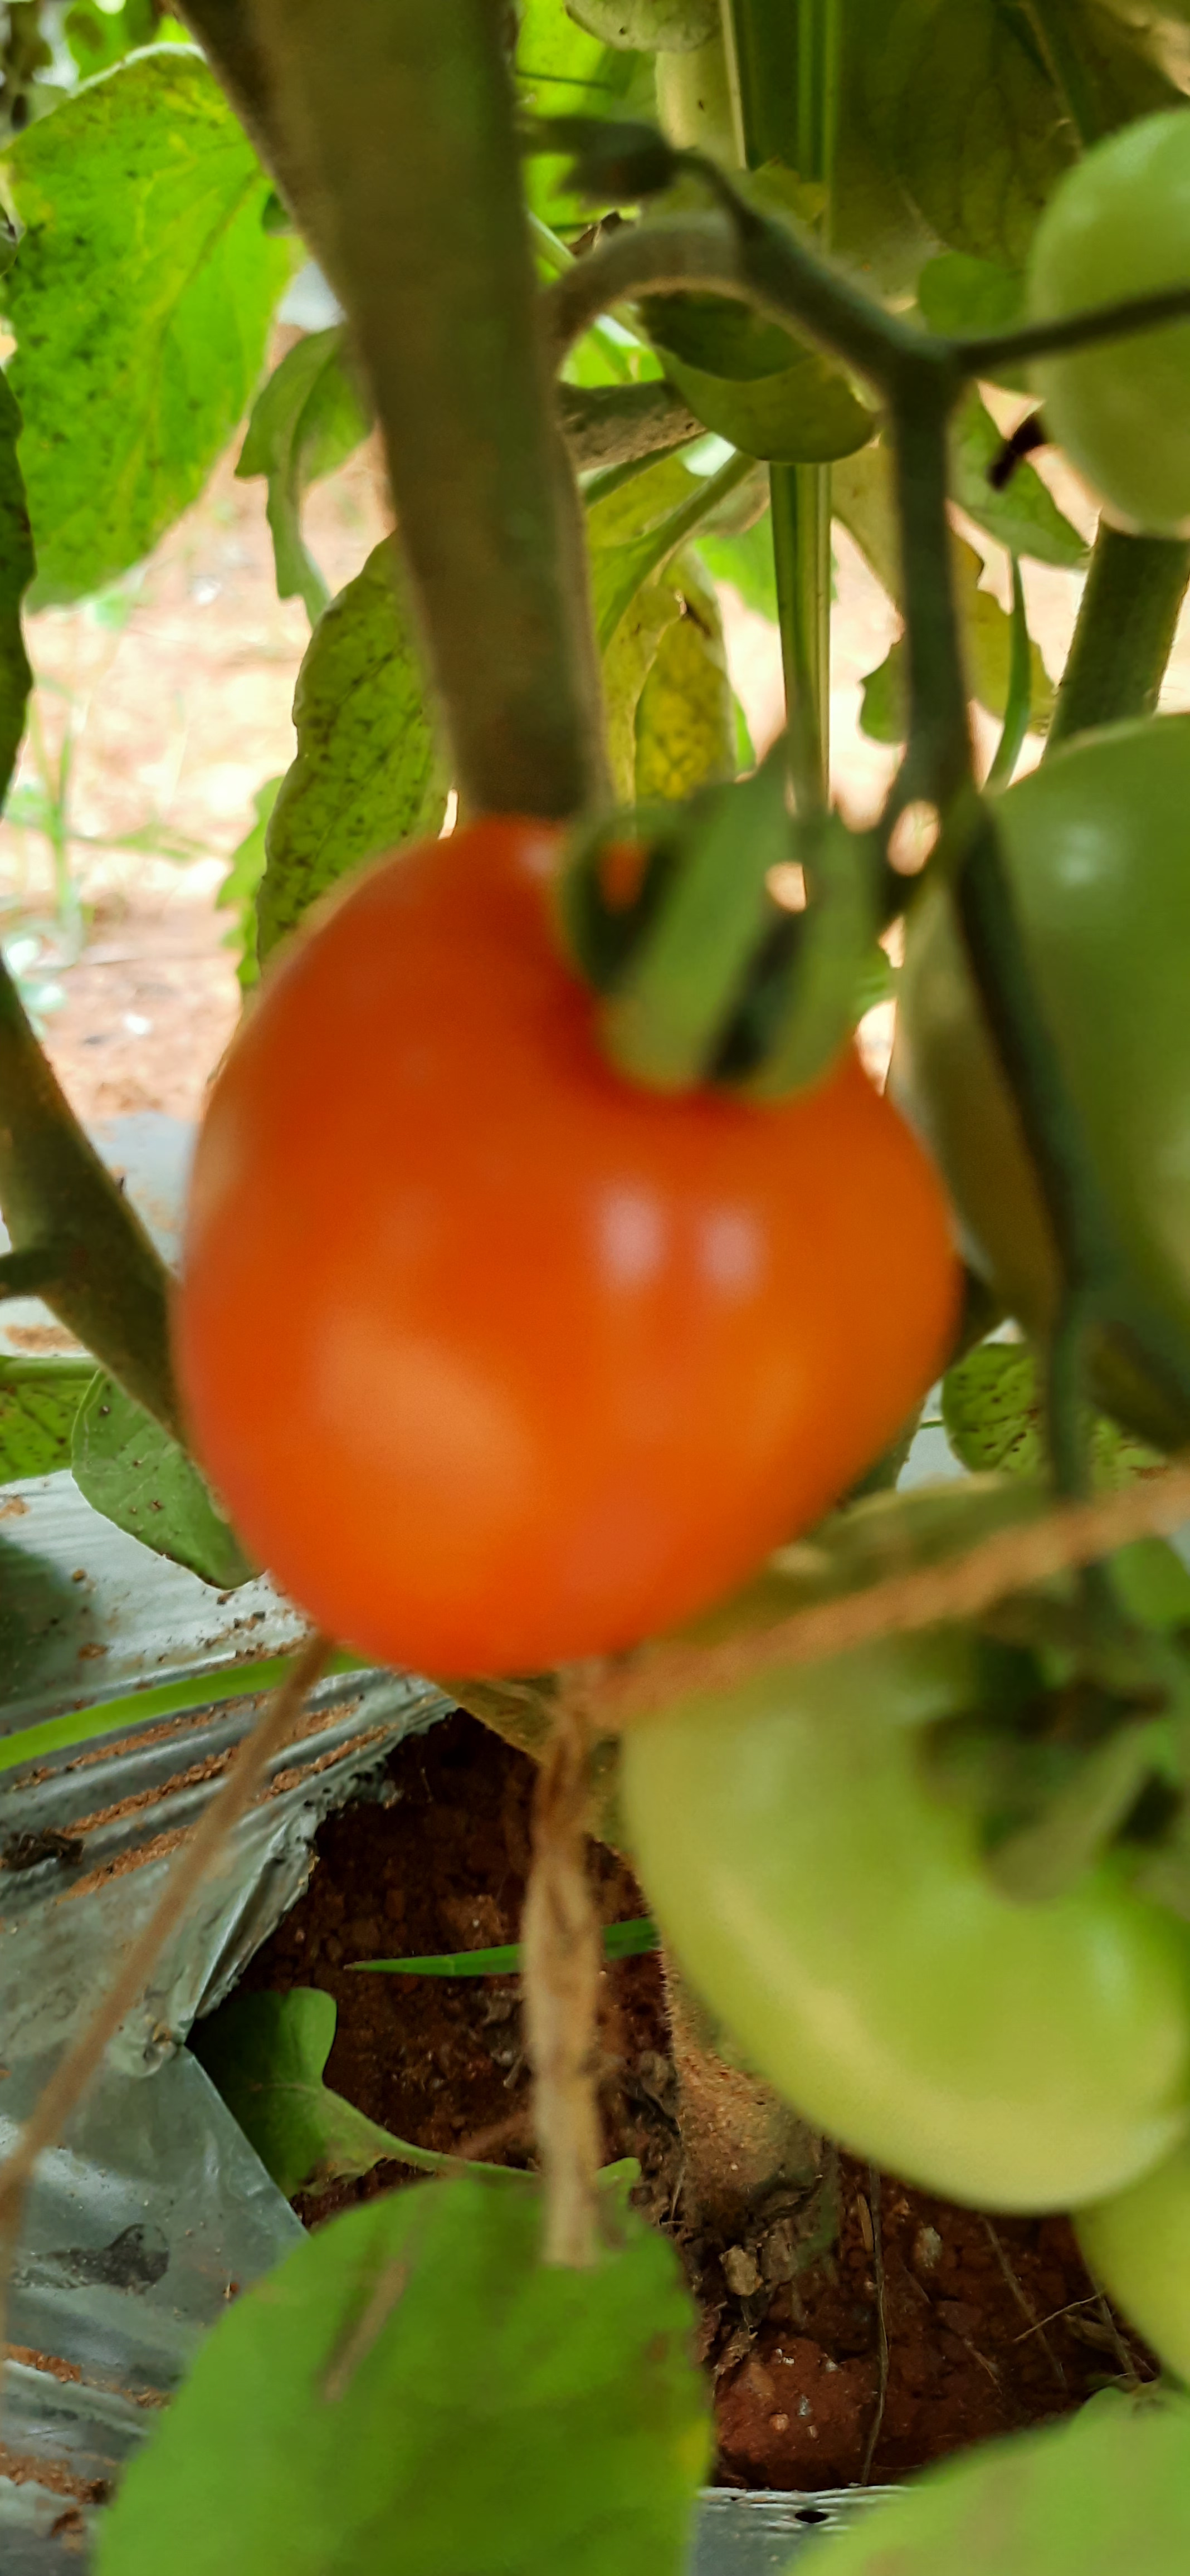tomato: (194, 762, 994, 1679)
